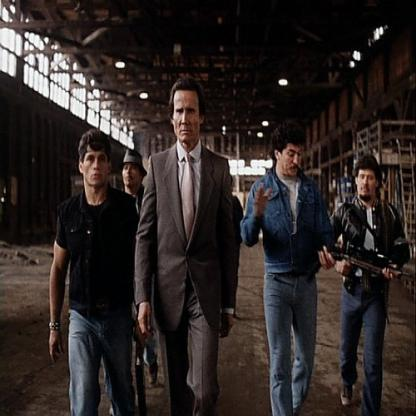Guns: (326, 236, 406, 298), (127, 329, 150, 415)
